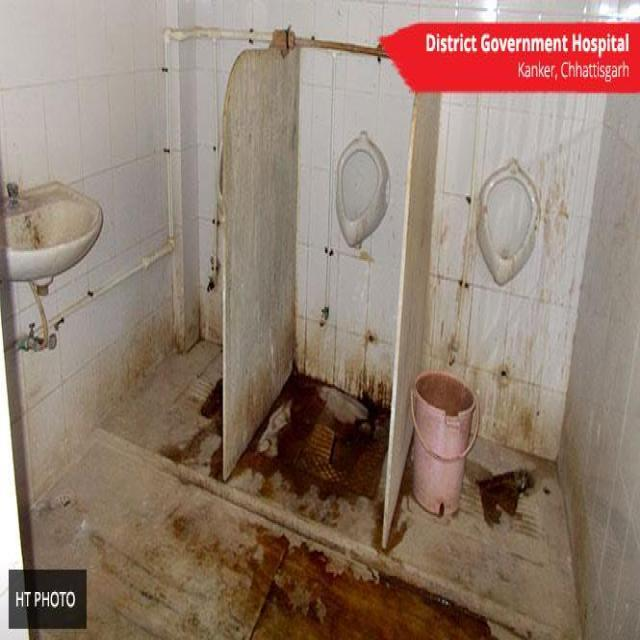dirty_floor: (2, 0, 637, 638), (25, 339, 580, 638), (155, 358, 535, 555), (227, 367, 390, 511), (1, 177, 104, 289), (474, 466, 535, 527)
